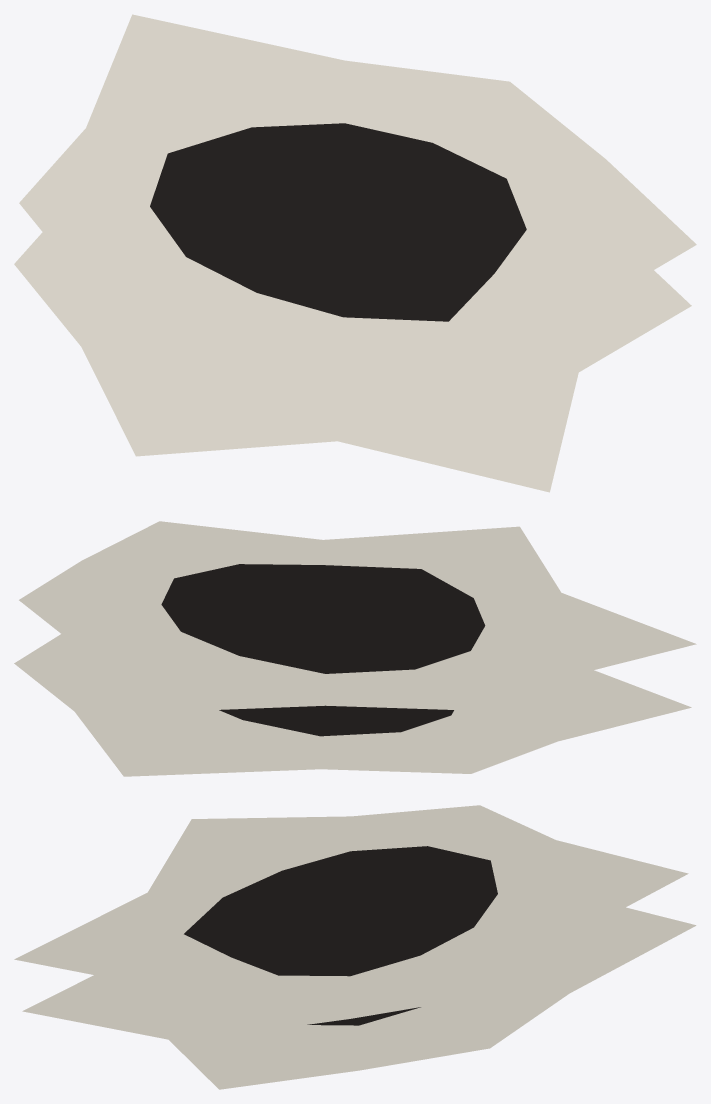
The model's file is hole_stand_06.obj.
3 renders of one model, top to bottom at view 1: azimuth 30°, elevation 25°; view 2: azimuth 150°, elevation 25°; view 3: azimuth 270°, elevation 25°, orthographic. The views are drawn at different scales.
Size of the model in its own units: 0.049 by 0.0142 by 0.0639.
